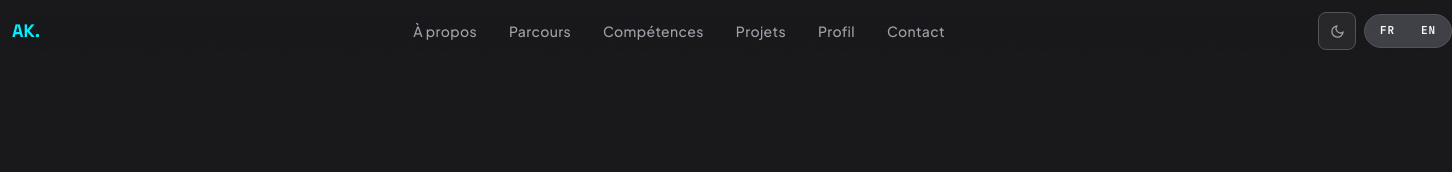
Scenario: Navbar — language toggle › clicking EN switches nav labels to English
Click the button with aria-label "english version": (1428, 31) x1=1409 y1=18 x2=1448 y2=44
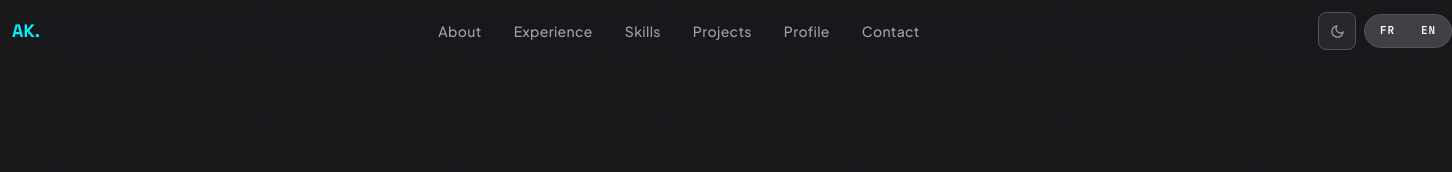
Check: the link "About" is shown, box x1=438 y1=20 x2=482 y2=42
Check: the link "À propos" is gone
